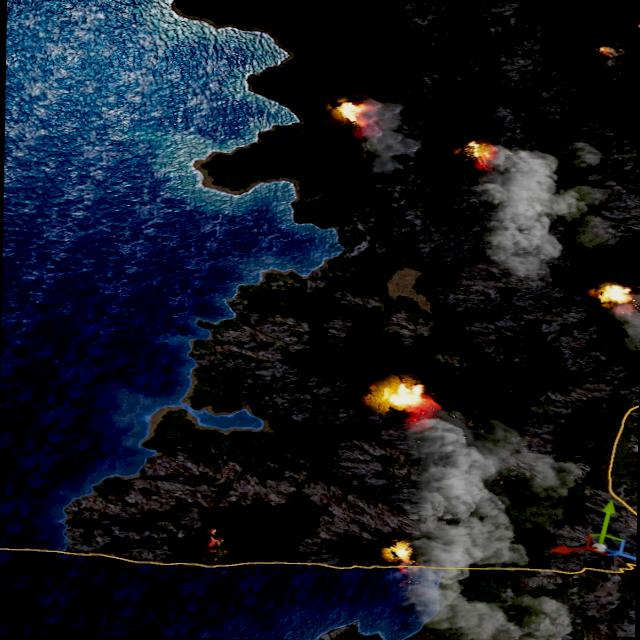fire: (380, 382, 430, 410), (462, 138, 496, 168), (336, 100, 370, 126), (597, 284, 631, 304), (390, 540, 410, 560), (203, 527, 219, 549), (596, 46, 618, 56), (637, 21, 640, 31)
smoke: (411, 404, 578, 570), (474, 142, 596, 282), (383, 568, 570, 640), (362, 102, 423, 178), (610, 295, 640, 357)
